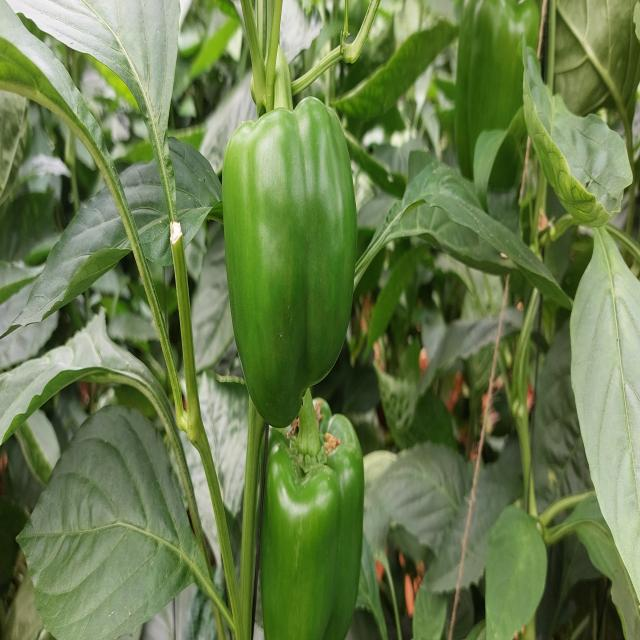Green--Not-ready-to-harvest: (222, 121, 367, 413), (262, 428, 368, 640), (461, 0, 544, 201)
